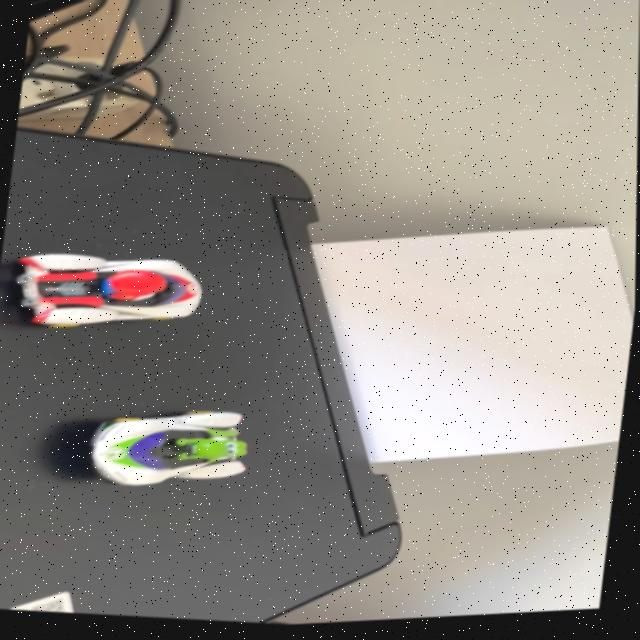mario: (0, 239, 229, 354)
yoshi: (72, 389, 274, 509)
